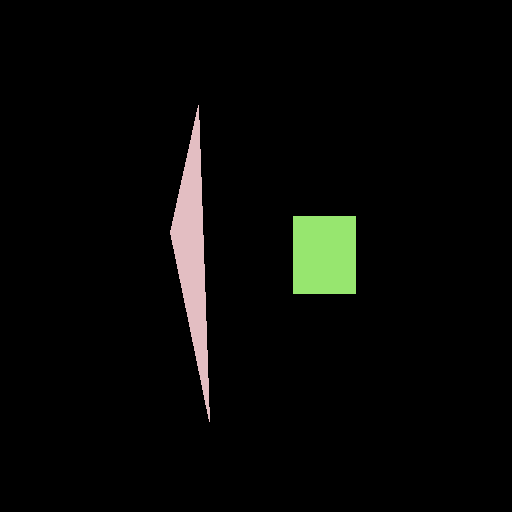rectangle: (293, 216, 355, 293)
triangle: (170, 105, 209, 421)
